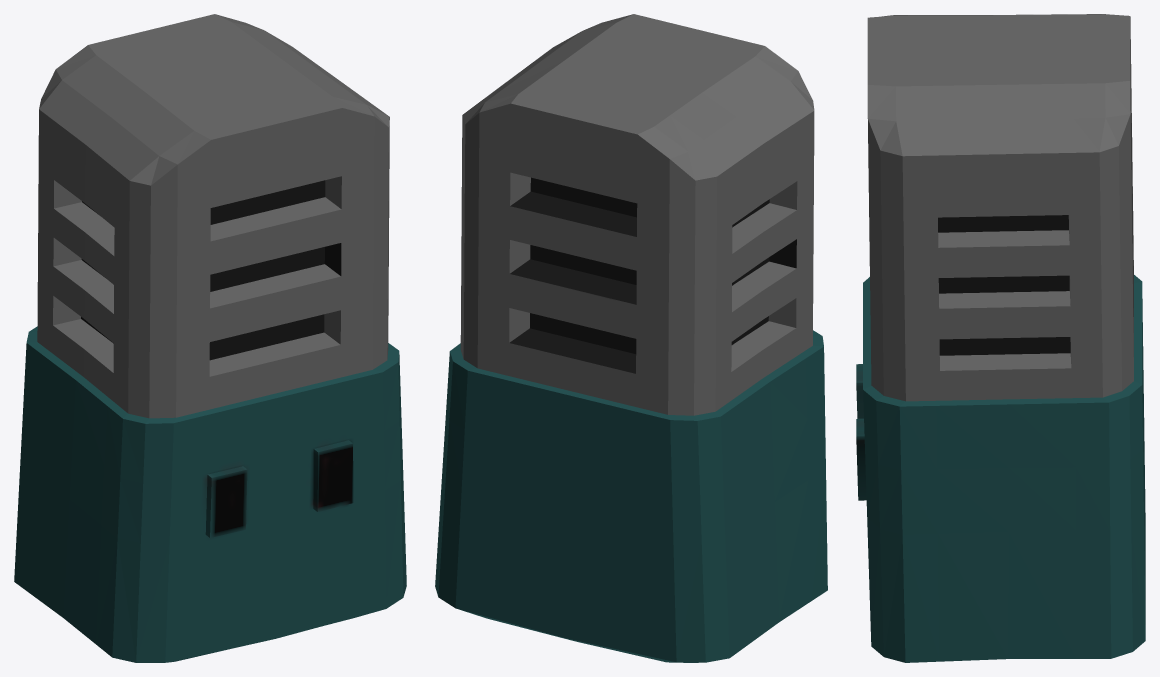
3 renders of one model, left to right at view 1: azimuth 30°, elevation 25°; view 2: azimuth 150°, elevation 25°; view 3: azimuth 270°, elevation 25°, orthographic. The views are drawn at different scales.
Parts seen in each view (by area): view 1: Cube.001; view 2: Cube.001; view 3: Cube.001.
Boxes of the visible parts, <box> form: Cube.001: <box>14,14,406,662</box>; Cube.001: <box>435,14,827,662</box>; Cube.001: <box>856,14,1145,662</box>.
Bounding box in the file's own units: 1.03 × 1.8 × 0.8338.
1 material, 1 textured.
